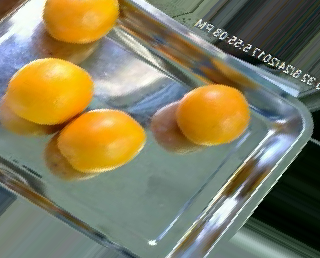Orange: (6, 56, 94, 124), (57, 108, 147, 174), (176, 82, 251, 145), (42, 0, 120, 44)
